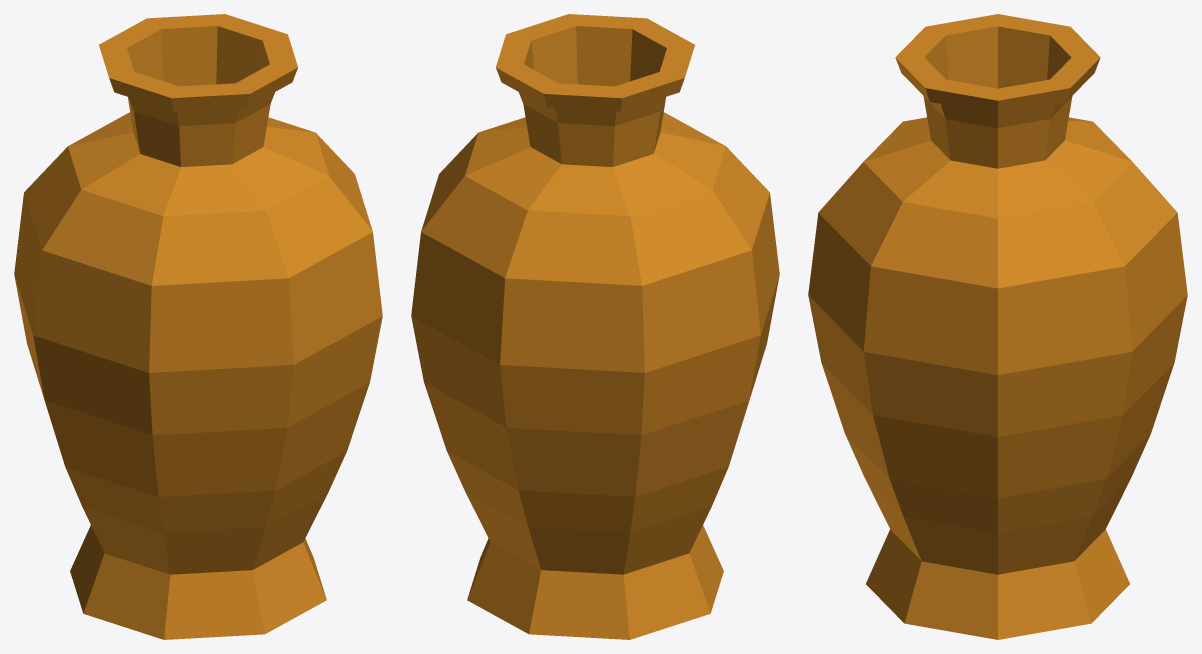
Rendered from Yellow Vase.fbx.
The picture shows the model from 3 angles, left to right: view 1: azimuth 30°, elevation 25°; view 2: azimuth 150°, elevation 25°; view 3: azimuth 270°, elevation 25°; orthographic projection.
Parts seen in each view (by area): view 1: Yellow Vase; view 2: Yellow Vase; view 3: Yellow Vase.
Part boxes in pixels (bbox=[...]): Yellow Vase: bbox=[14, 14, 382, 639]; Yellow Vase: bbox=[411, 14, 779, 639]; Yellow Vase: bbox=[808, 14, 1187, 639].
Size of the model in its own units: 0.1826 by 0.2796 by 0.1826.
